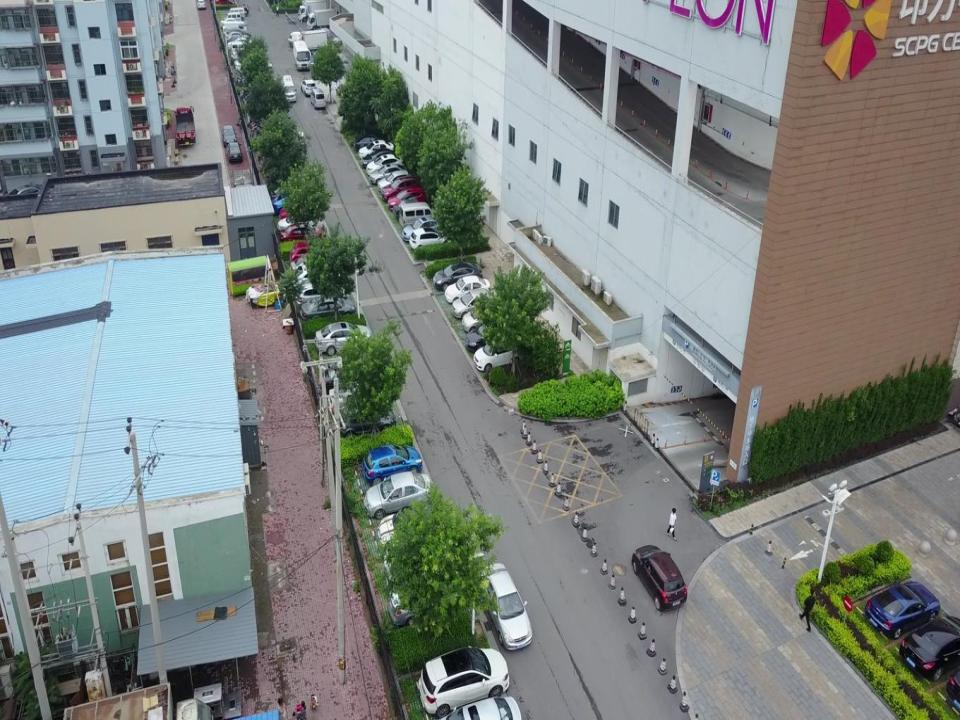bus: (293, 40, 311, 72)
car: (420, 646, 510, 710), (477, 563, 534, 648), (865, 581, 941, 637), (899, 614, 960, 680), (632, 543, 687, 611), (382, 539, 466, 583), (386, 584, 472, 625), (364, 471, 433, 514), (380, 511, 457, 547), (362, 442, 422, 487), (439, 694, 523, 720), (338, 406, 397, 440), (321, 362, 379, 393), (329, 382, 388, 412), (315, 322, 372, 353), (474, 340, 524, 372), (452, 288, 500, 320), (290, 254, 346, 281), (300, 295, 357, 321), (444, 274, 492, 304), (292, 264, 347, 290), (295, 280, 349, 306), (289, 242, 345, 267), (433, 262, 483, 290), (463, 323, 514, 350), (402, 217, 449, 246), (462, 308, 509, 332), (388, 186, 426, 214), (411, 228, 451, 254), (380, 176, 418, 203), (279, 223, 326, 244), (393, 198, 435, 221), (368, 163, 408, 185), (366, 153, 404, 176), (377, 169, 412, 193), (278, 216, 324, 234), (280, 205, 322, 224), (361, 150, 401, 168), (359, 139, 395, 157), (353, 134, 391, 150), (221, 124, 237, 148), (227, 143, 242, 163), (301, 79, 317, 97), (195, 0, 206, 9)
truck: (296, 31, 328, 54), (297, 0, 328, 21), (307, 9, 337, 30)
van: (400, 202, 436, 229), (288, 31, 317, 49), (282, 74, 296, 104), (310, 89, 326, 110)
